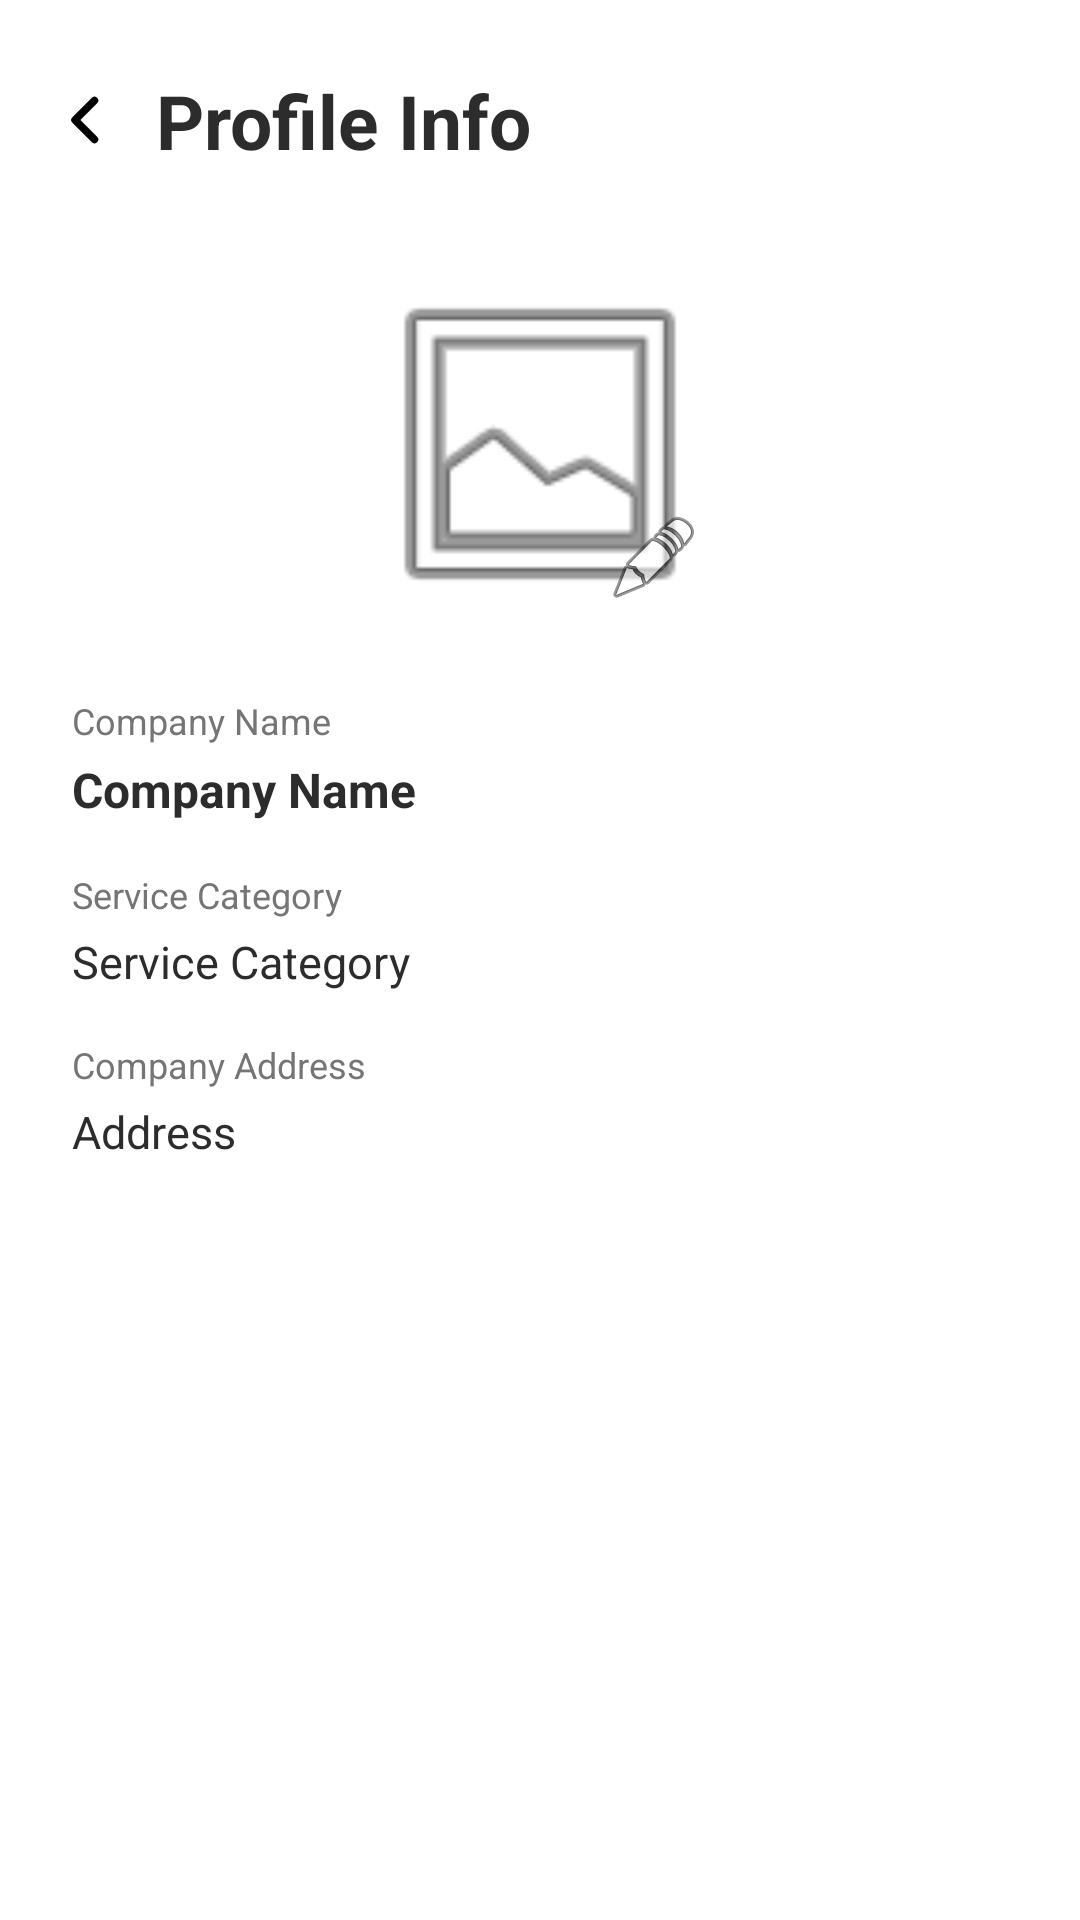

Screen size 1080px×1920px. Icon name, then its center in pixels as (x=x, y=y):
Back: (x=85, y=120)
